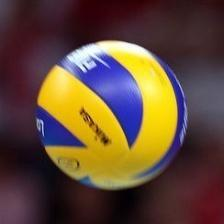Sports-Ball: (35, 40, 187, 193)
